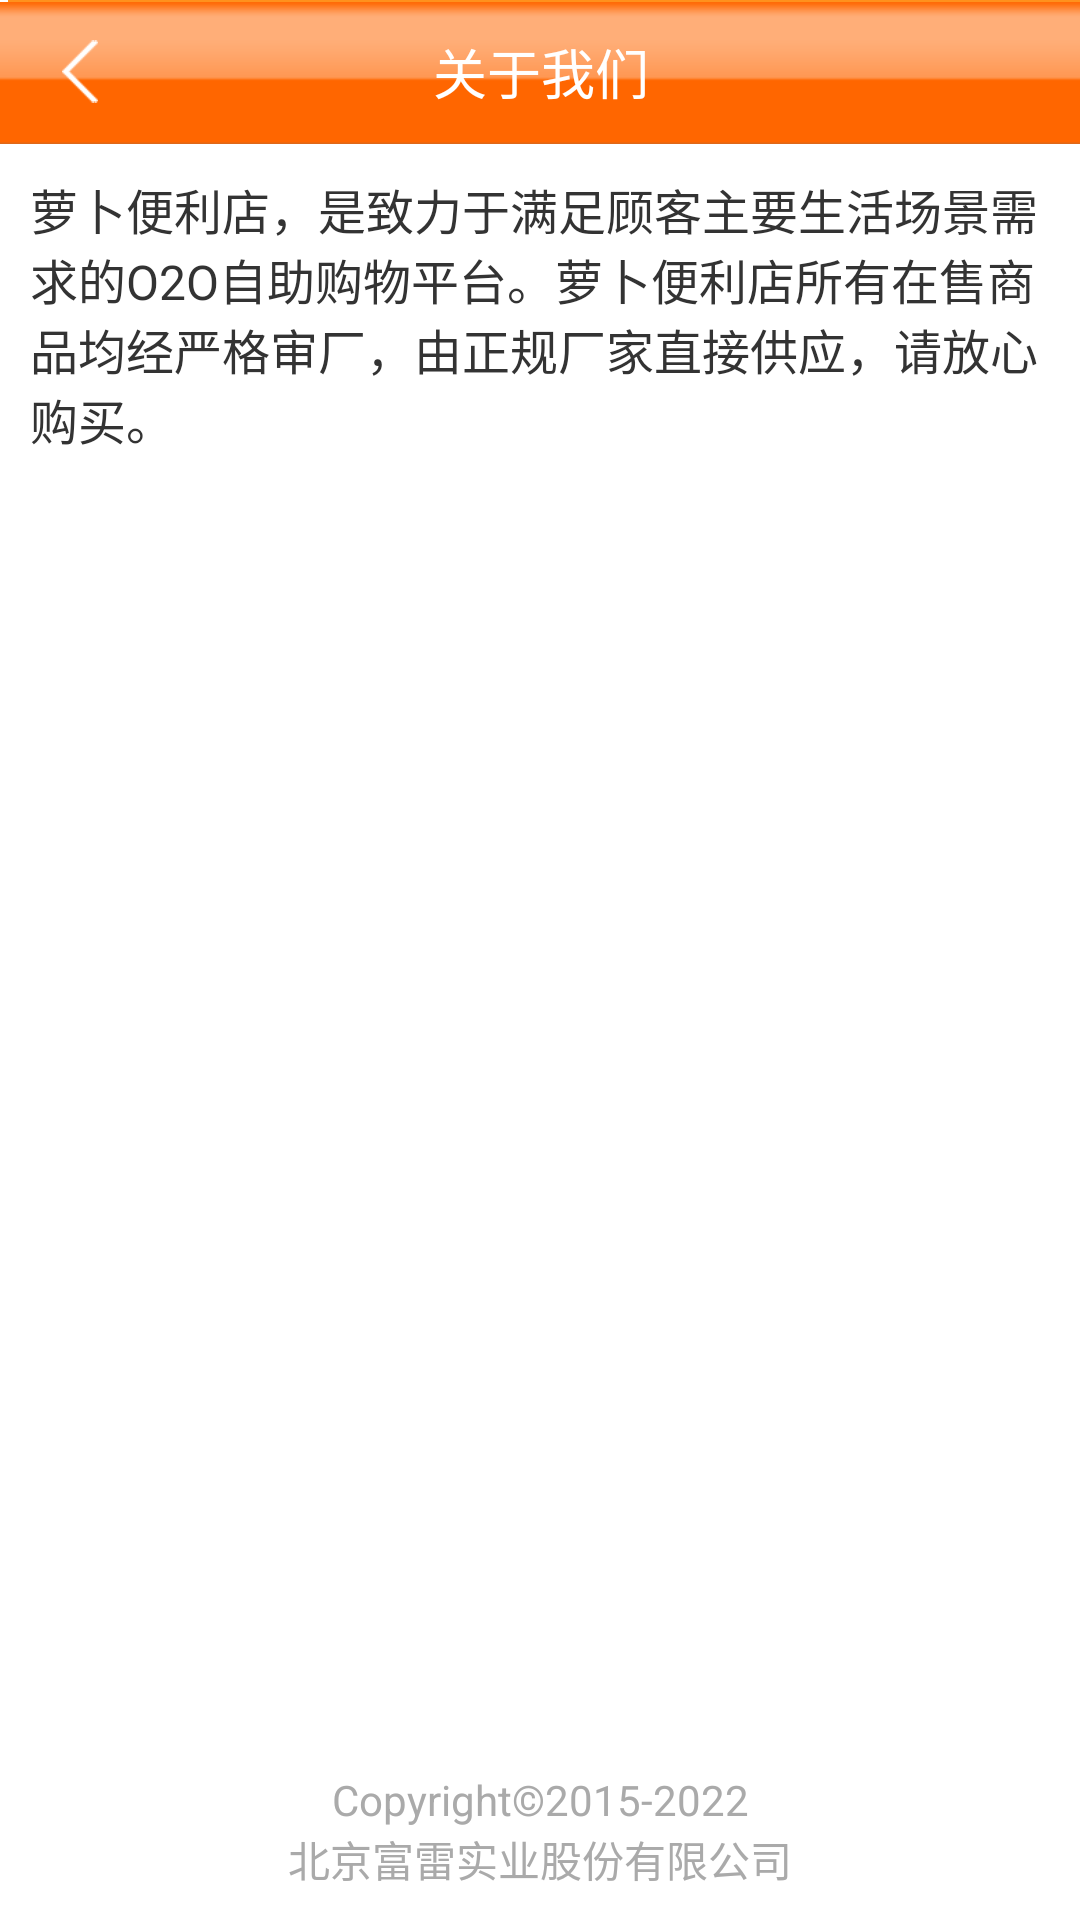

Icons on this 1080x1920 Android screen, each with the point to tap as point (x, y):
back: point (80, 71)
